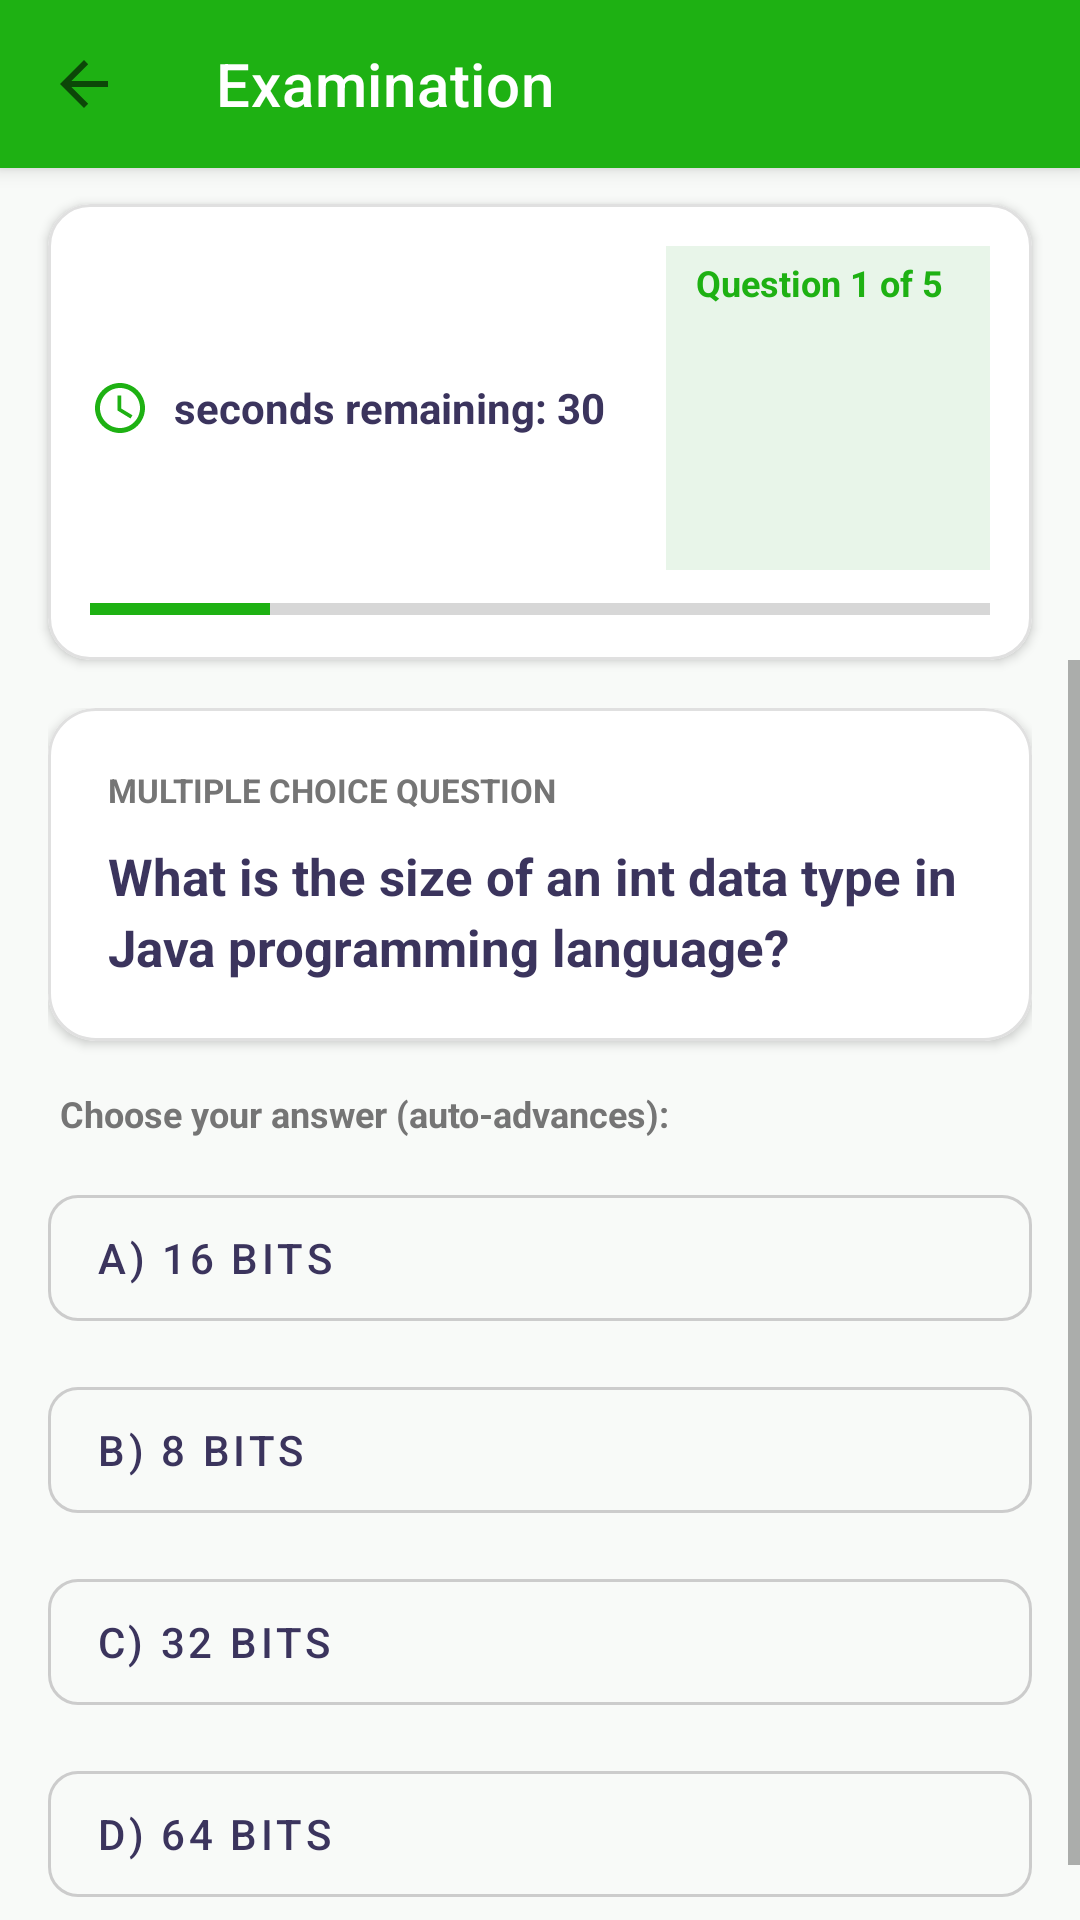

Named icons in this screenshot (1080*1920) and their bounding boxes, (x1, y1, x2, y2):
Timer Icon: (95, 383, 145, 433)
